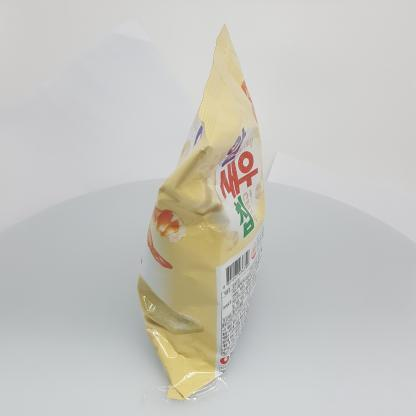Plastic Packaging: (127, 17, 296, 411)
